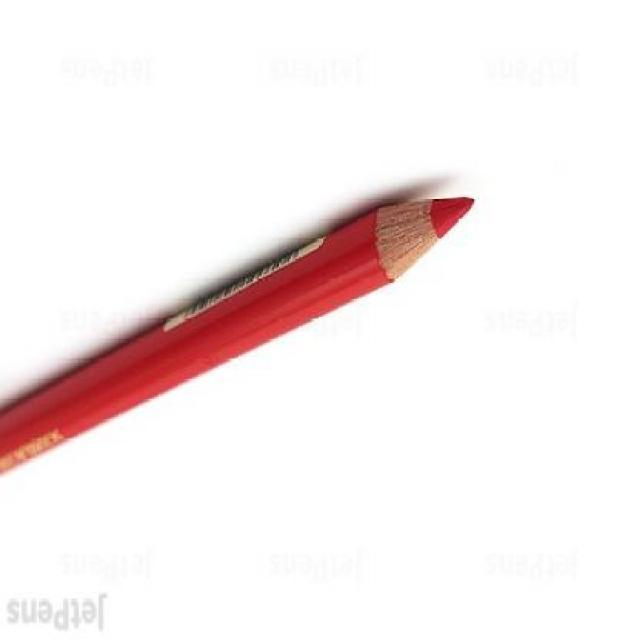Pencil: (354, 172, 480, 300)
